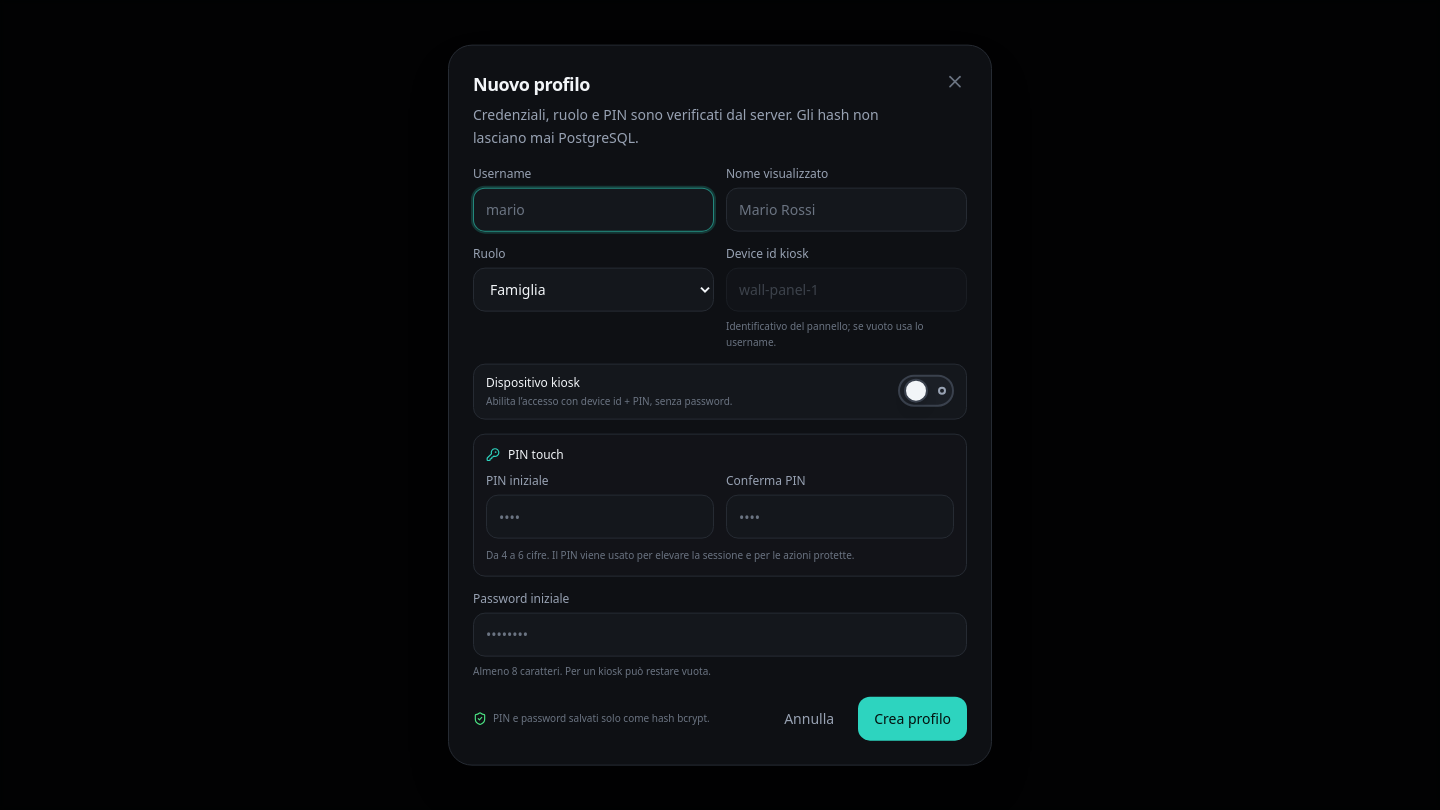
Test case: UserFormDialog › rifiuta PIN non coincidenti senza chiamare la API
The image size is (1440, 810).
In the field labelled "Username": (594, 209) [473,187,714,231], type "giulia"
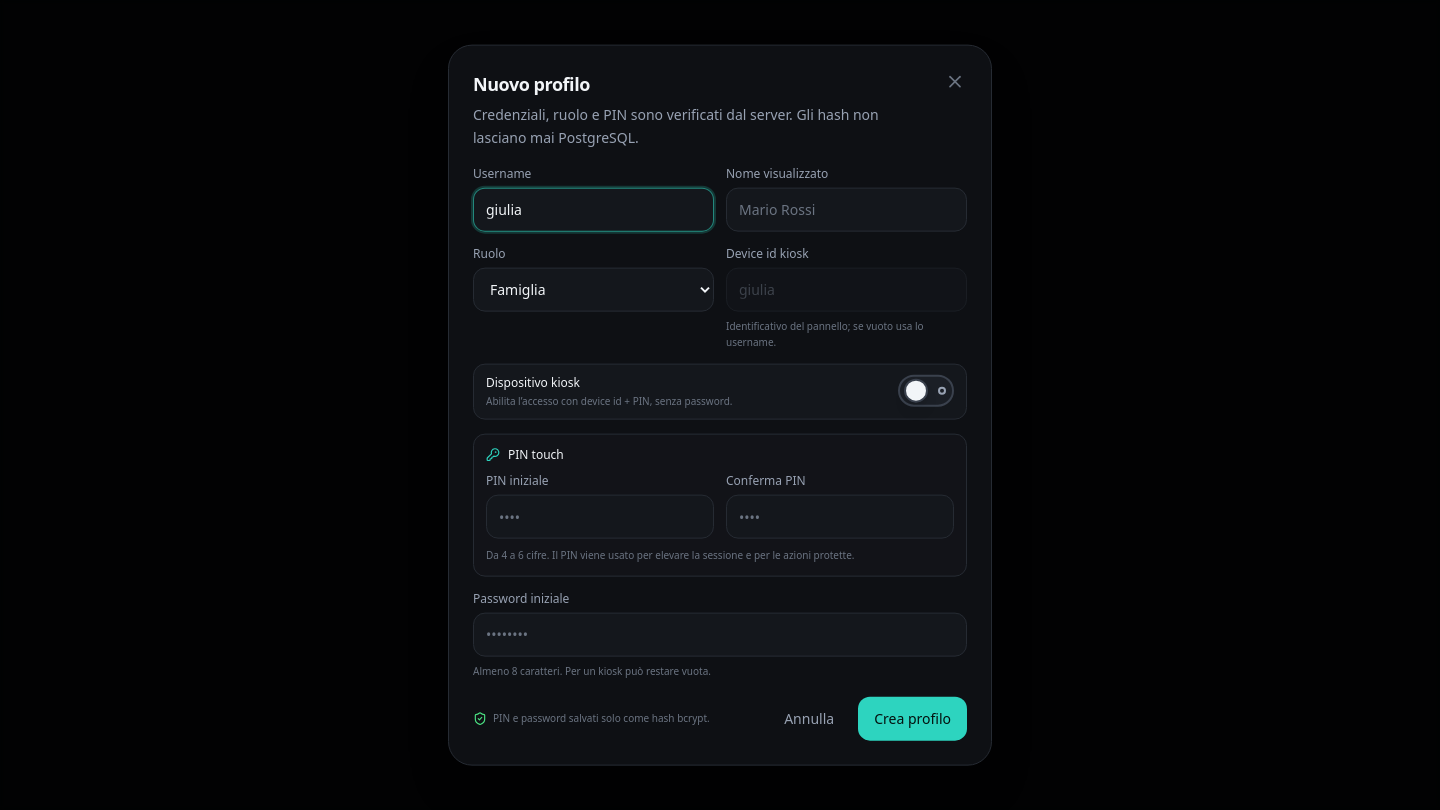
In the password field labelled "PIN iniziale": (600, 517) [486,495,714,539], type "1357"
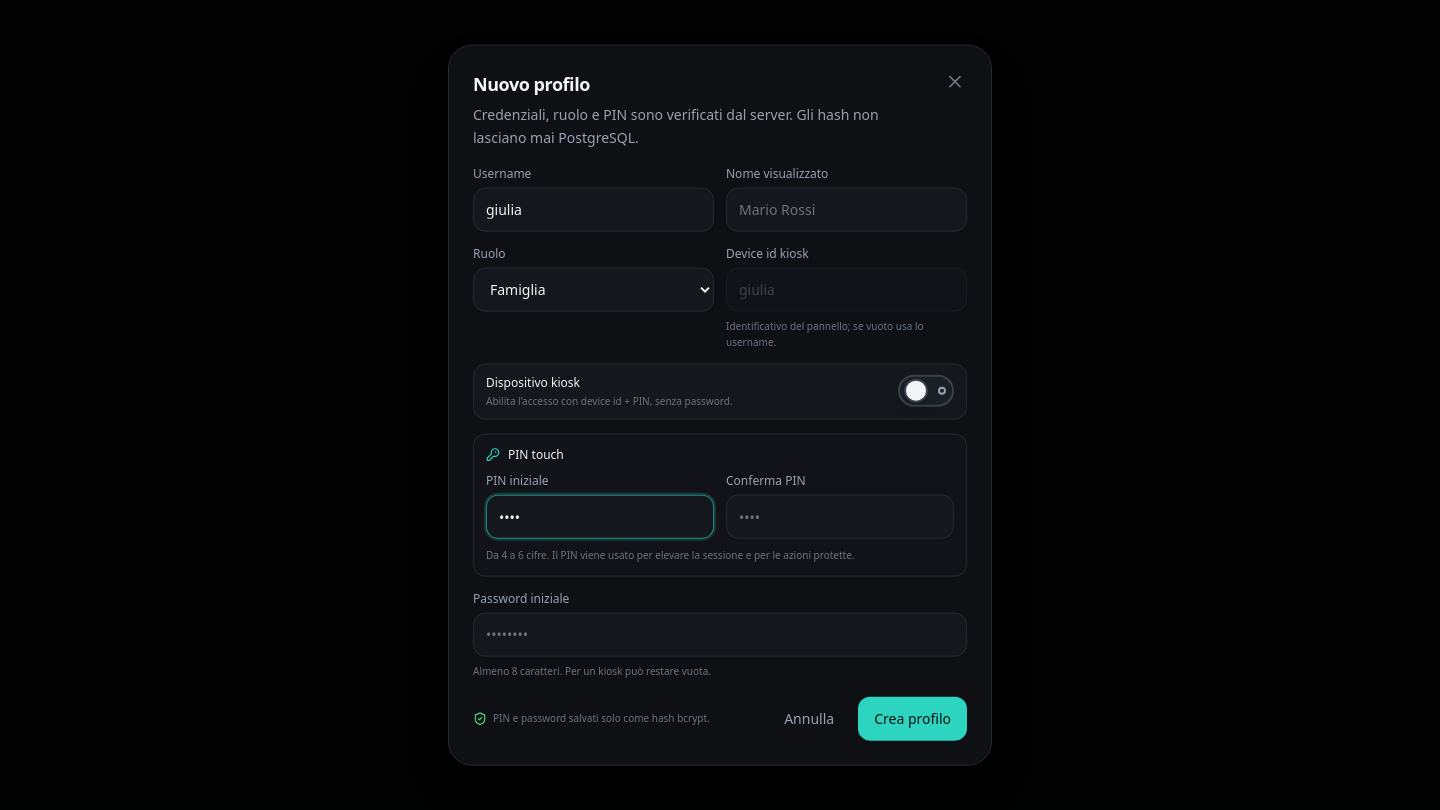
In the password field labelled "Conferma PIN": (840, 517) [726,495,954,539], type "2468"
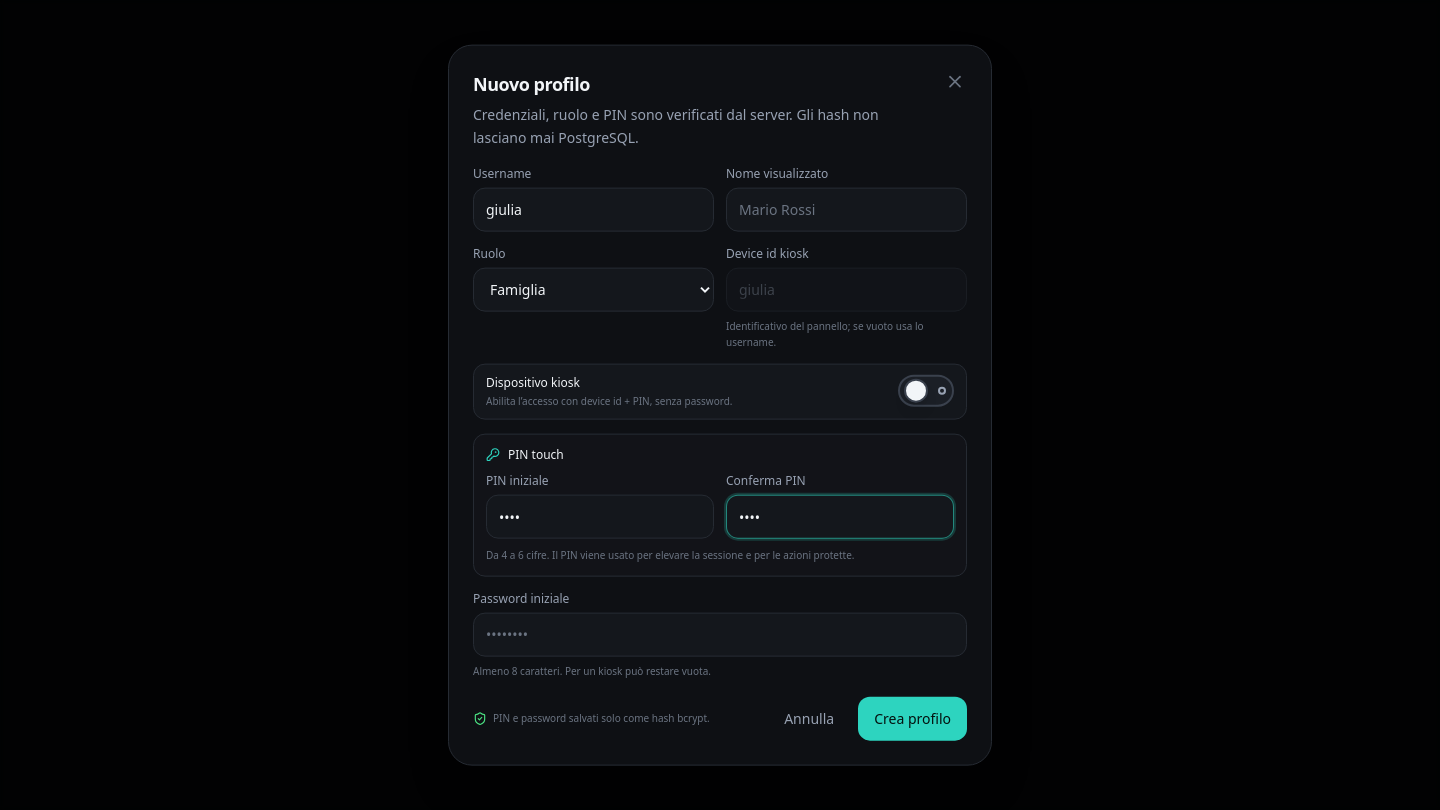
In the password field labelled "Password iniziale": (720, 634) [473,612,967,656], type "family-pass-123"
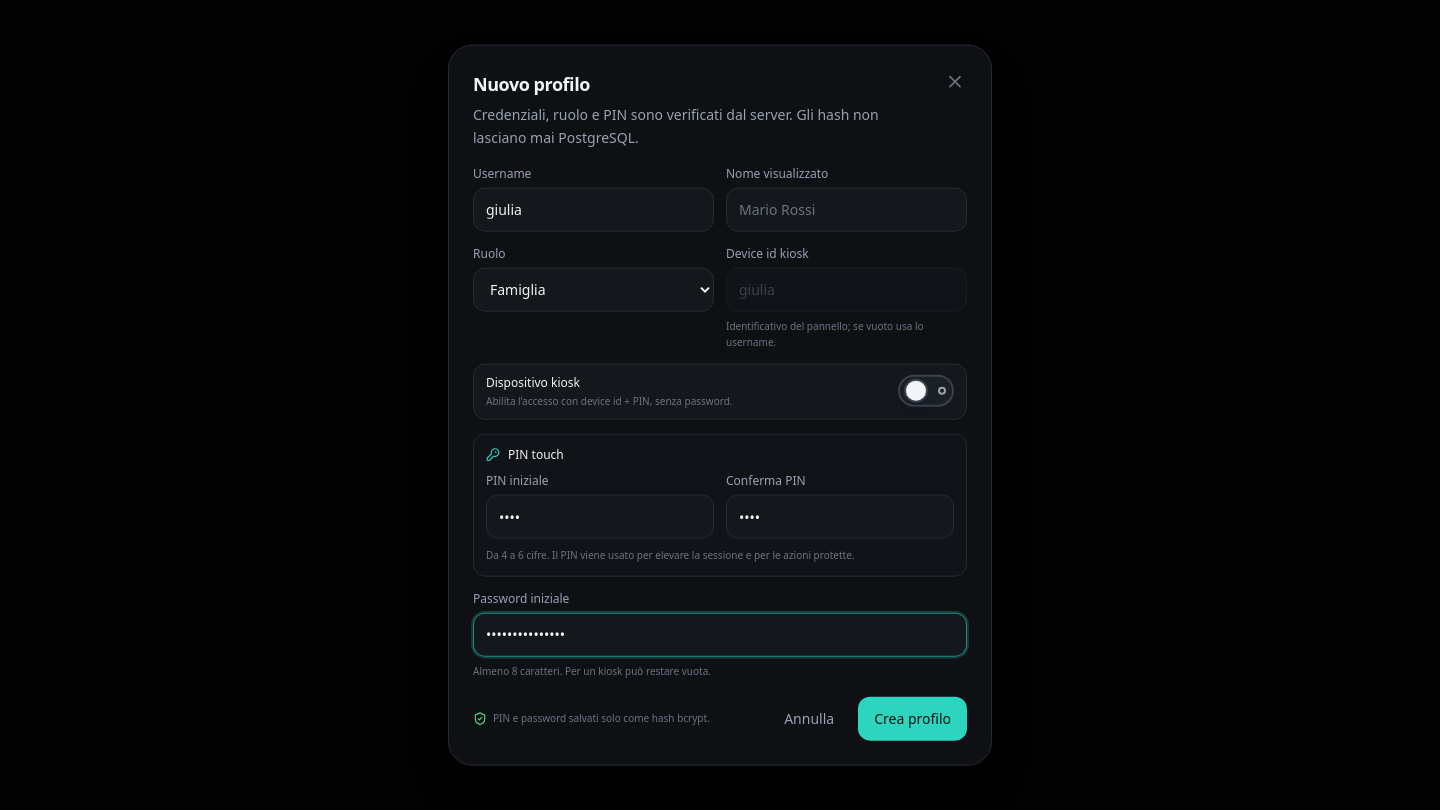
Click the button "Crea profilo": (913, 718) [858,696,967,740]
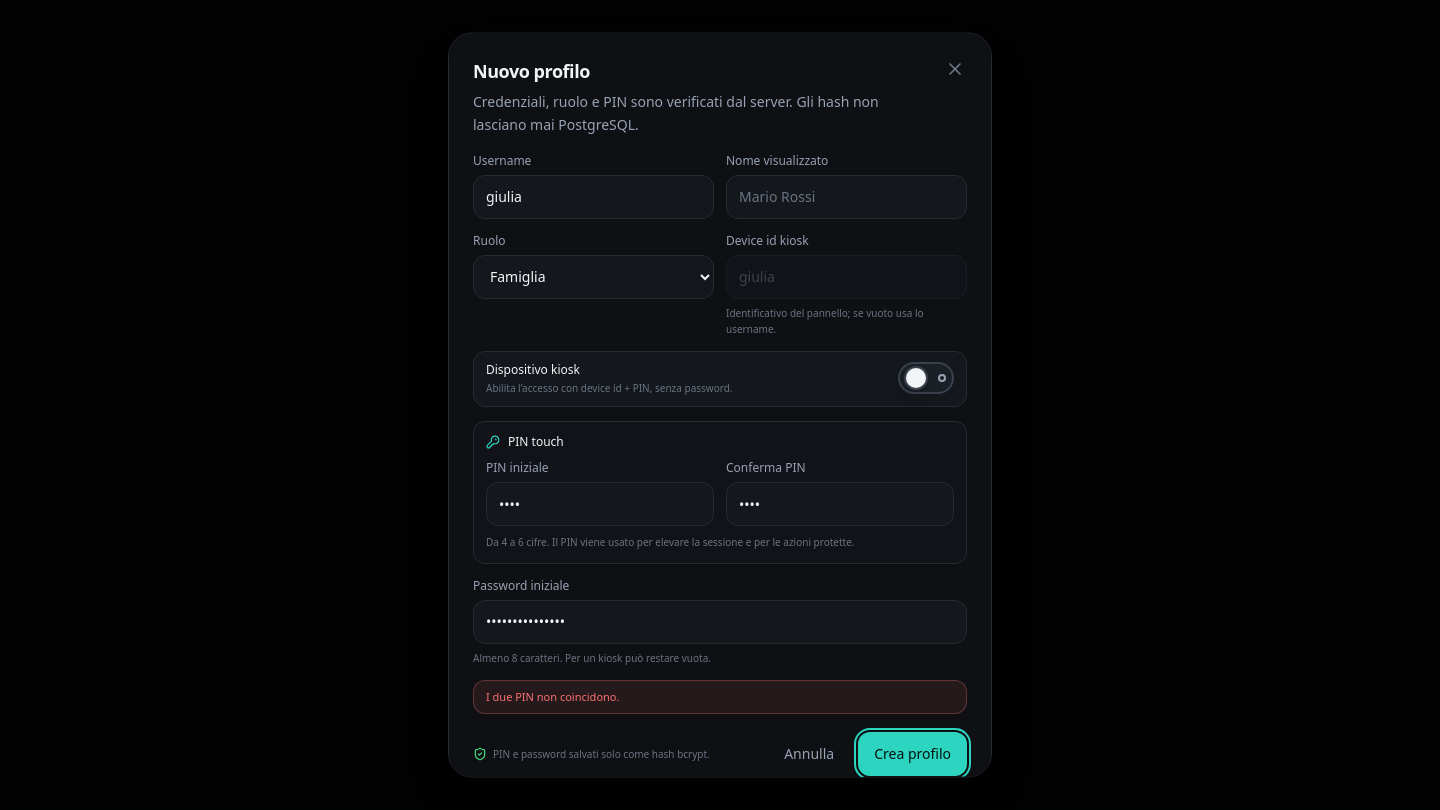
expect the message shows "I due PIN non coincidono": met, box [486,689,620,704]
